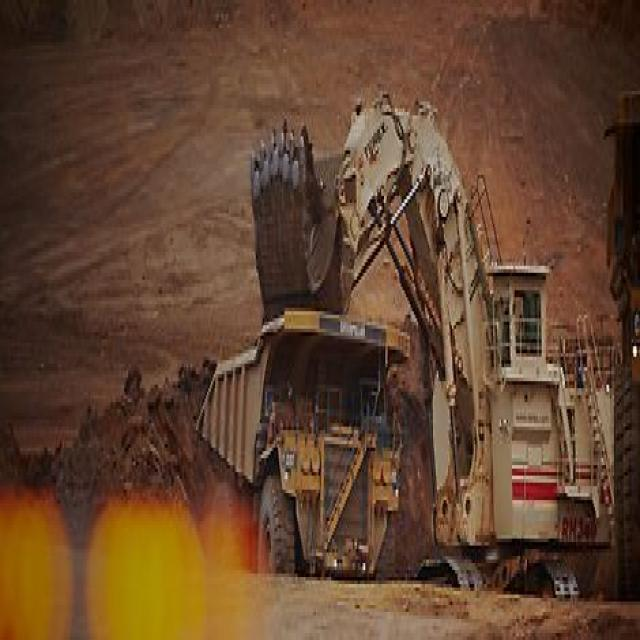dump_truck: (182, 287, 412, 591)
excavator: (241, 80, 639, 636)
